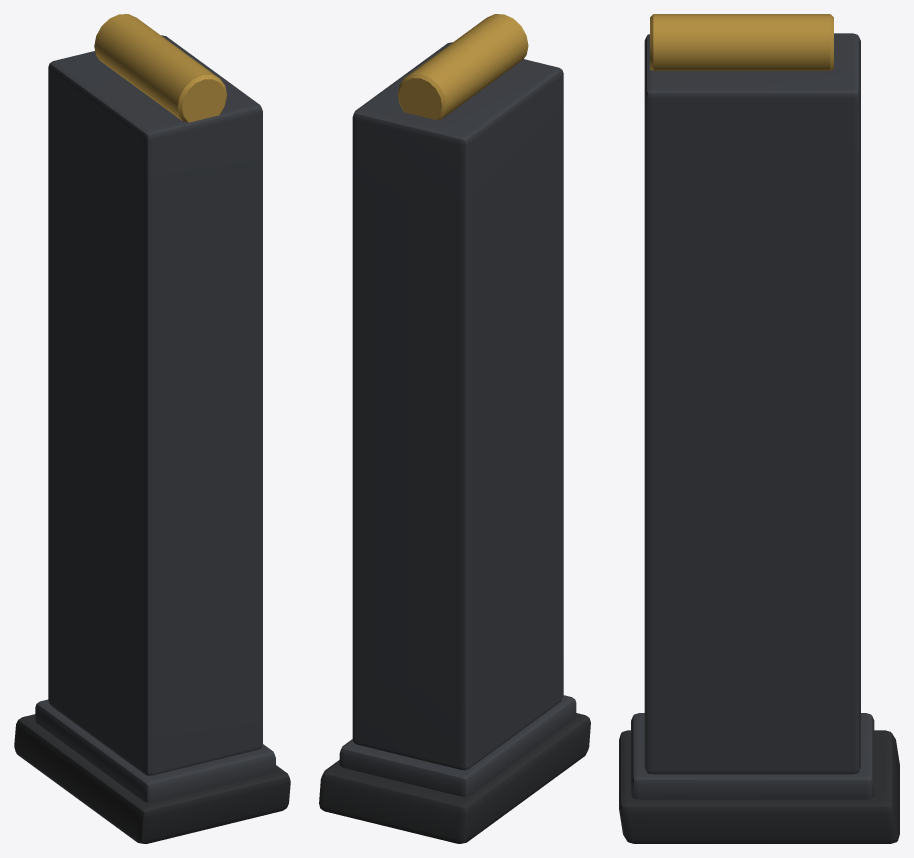
The model's file is mod_sparrow_standard_mag.glb.
3 views of the same model, side by side, from view 1: azimuth 30°, elevation 25°; view 2: azimuth 150°, elevation 25°; view 3: azimuth 270°, elevation 25° (orthographic). The views are drawn at different scales.
Parts seen in each view (by area): view 1: Magazine, MagazinePad, MagazineRound; view 2: Magazine, MagazinePad, MagazineRound; view 3: Magazine, MagazinePad, MagazineRound.
Part boxes in pixels (left/top/right/bottom): Magazine: left=35, top=35, right=275, bottom=802; MagazinePad: left=14, top=714, right=290, bottom=843; MagazineRound: left=94, top=14, right=227, bottom=122; Magazine: left=339, top=42, right=576, bottom=796; MagazinePad: left=319, top=713, right=590, bottom=843; MagazineRound: left=398, top=14, right=528, bottom=119; Magazine: left=631, top=33, right=874, bottom=799; MagazinePad: left=619, top=730, right=899, bottom=843; MagazineRound: left=650, top=14, right=833, bottom=70.
Bounding box in the file's own units: 0.0276 × 0.1292 × 0.0415.
